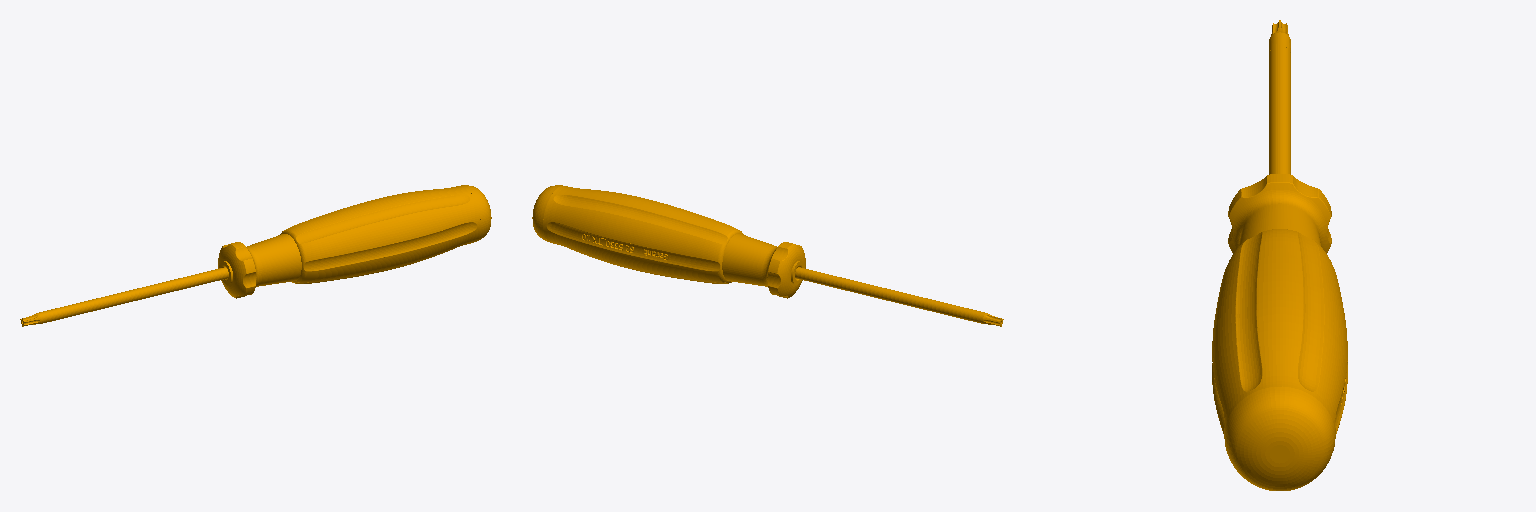
The robot description file, URDF, robot "screwdriver_torx":
<?xml version="1.0" ?>
<robot name="screwdriver_torx">
  <link name="screwdriver_torx">
    <visual>
      <origin rpy="0 0 0" xyz="0.0 0.0 0.0"/>
      <geometry>
        <mesh filename="625330_TX10_Garant.stl" scale="0.001 0.001 0.001"/>
      </geometry>
    </visual>
    <collision>
      <geometry>
        <mesh filename="625330_TX10_Garant.stl" scale="0.001 0.001 0.001"/>
      </geometry>
    </collision>
    <inertial>
      <mass value="0.1"/>
      <inertia ixx="0.01" ixy="0.0" ixz="0.0" iyy="0.01" iyz="0.0" izz="0.01"/>
      <origin xyz="0 0 0"/>
    </inertial>  
  </link>
</robot>

--- Facts derived from the render (not from the file) ---
The picture shows the robot from 3 angles, left to right: view 1: azimuth 30°, elevation 25°; view 2: azimuth 150°, elevation 25°; view 3: azimuth 270°, elevation 25°; orthographic projection.
Robot: screwdriver_torx — 1 links, 0 joints (none); root link screwdriver_torx; default pose: all joints at 0.
Links seen in each view (by area): view 1: screwdriver_torx; view 2: screwdriver_torx; view 3: screwdriver_torx.
Link boxes in pixels (x1,y1,x2,y2): screwdriver_torx: (20,185,491,326); screwdriver_torx: (532,185,1003,326); screwdriver_torx: (1212,20,1347,490).
Bounding box of the posed robot: 0.1597 × 0.0215 × 0.0218 m (x, y, z).
Meshes: 1 distinct files referenced, 1 mesh visuals loaded (1 binary STL).